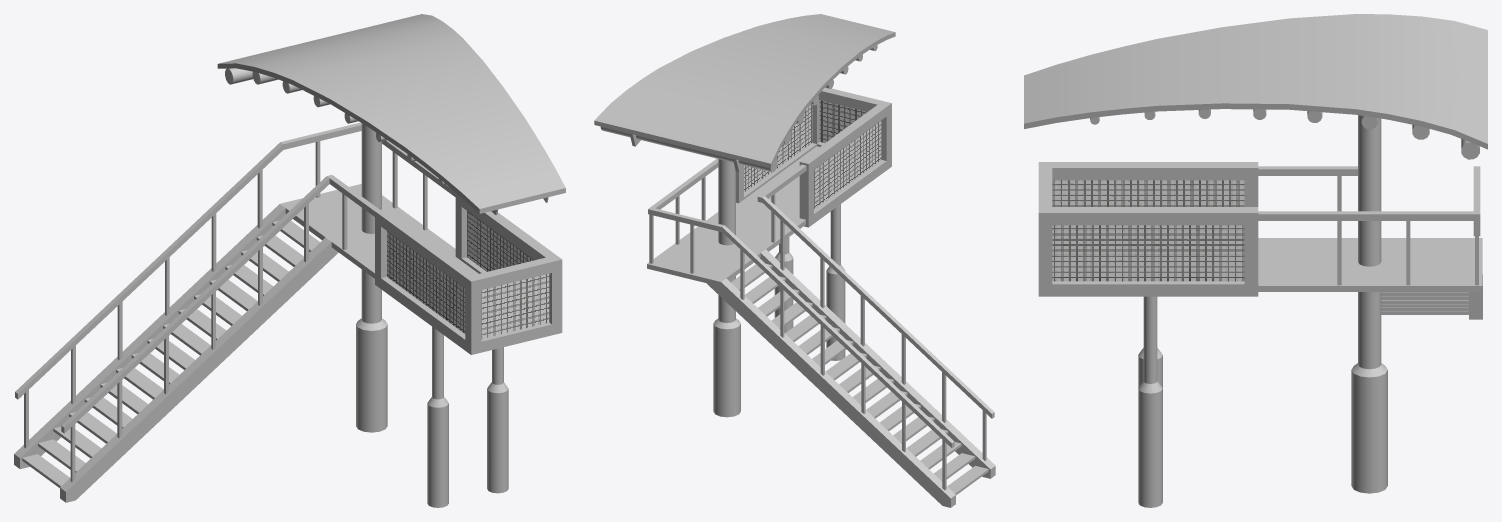
The model's file is CameraStand_B.fbx.
3 views of the same model, side by side, from view 1: azimuth 30°, elevation 25°; view 2: azimuth 150°, elevation 25°; view 3: azimuth 270°, elevation 25° (orthographic). The views are drawn at different scales.
Visible parts, largest first — view 1: Roof, Railing_Tops, Steps_Sides, Steps, GrillFence, Main_Strut, Legs, Railing_Verticals, Platform, Roof_Beams; view 2: Roof, Railing_Tops, Steps_Sides, Steps, Platform, GrillFence, Main_Strut, Railing_Verticals, Legs, Roof_Beams; view 3: Roof, Railing_Tops, GrillFence, Platform, Main_Strut, Legs, Steps, Roof_Beams, Railing_Verticals.
Boxes of the visible parts, x1,y1,x2,y2 form: Roof: (217, 14, 565, 214); Railing_Tops: (15, 122, 562, 433); Steps_Sides: (14, 204, 338, 502); Steps: (22, 221, 320, 487); GrillFence: (387, 211, 549, 338); Main_Strut: (356, 123, 387, 432); Legs: (427, 326, 508, 507); Railing_Verticals: (24, 141, 427, 482); Platform: (280, 184, 478, 278); Roof_Beams: (225, 68, 445, 185); Roof: (594, 14, 895, 171); Railing_Tops: (648, 88, 994, 447); Steps_Sides: (707, 249, 995, 507); Steps: (731, 263, 988, 495); Platform: (647, 146, 819, 286); GrillFence: (744, 100, 881, 208); Main_Strut: (713, 159, 740, 417); Railing_Verticals: (649, 176, 986, 490); Legs: (774, 204, 845, 360); Roof_Beams: (600, 45, 877, 172); Roof: (1024, 14, 1487, 149); Railing_Tops: (1038, 162, 1480, 296); GrillFence: (1052, 180, 1244, 281); Platform: (1258, 238, 1482, 291); Main_Strut: (1351, 115, 1387, 493); Legs: (1138, 296, 1162, 507); Steps: (1381, 292, 1468, 314); Roof_Beams: (1090, 109, 1479, 159); Railing_Verticals: (1337, 176, 1478, 285).
Bounding box in the file's own units: 7.87 × 6.82 × 6.75.
